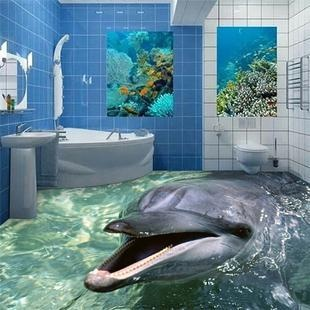fish: (81, 173, 290, 294)
